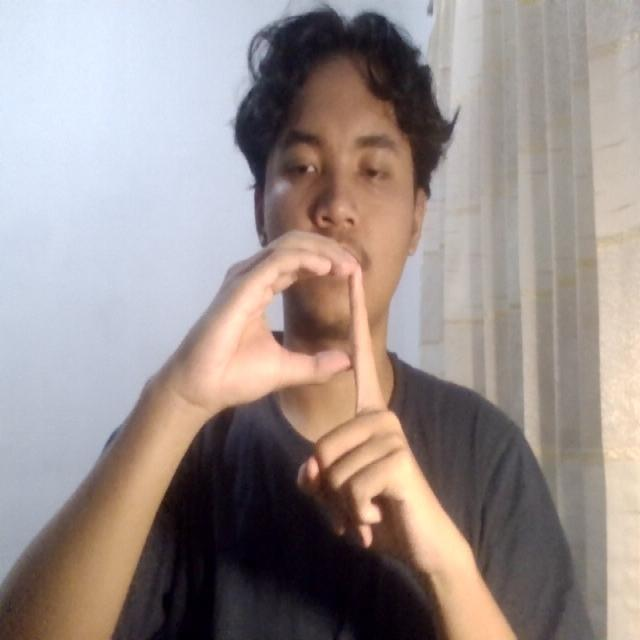D: (187, 220, 451, 580)
